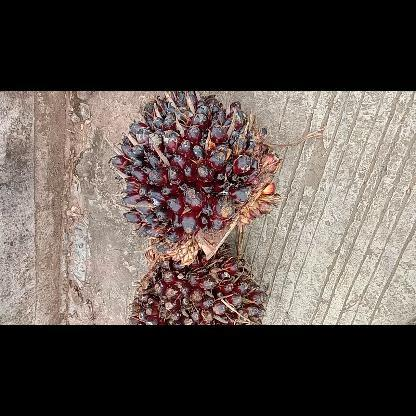TBS mentah: (100, 91, 290, 267), (124, 242, 270, 324)
